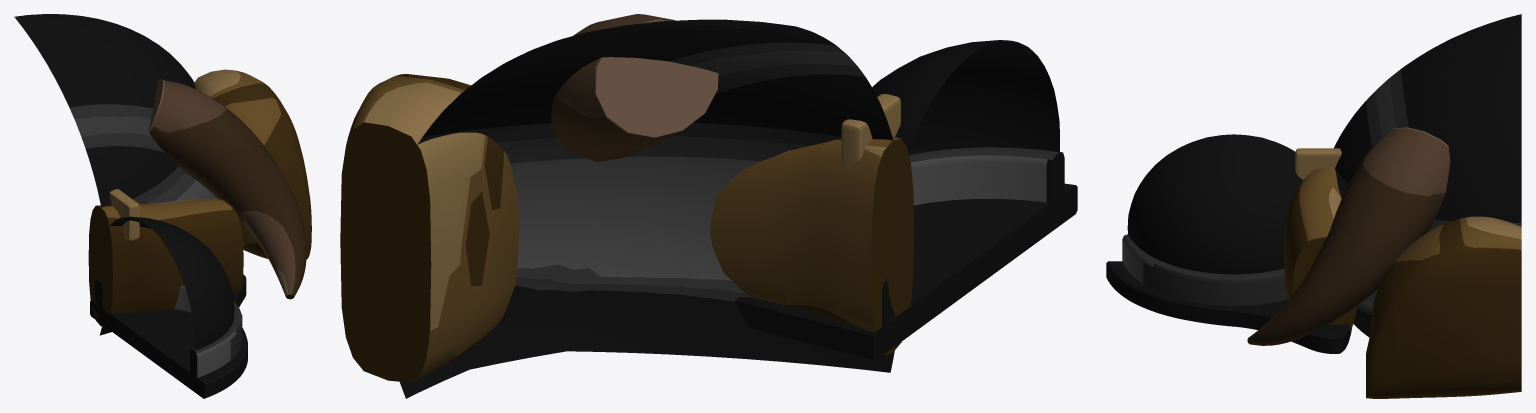
Rendered from claw_orb_br.glb.
The picture shows the model from 3 angles, left to right: view 1: azimuth 30°, elevation 25°; view 2: azimuth 150°, elevation 25°; view 3: azimuth 270°, elevation 25°; orthographic projection. The views are drawn at different scales.
Parts seen in each view (by area): view 1: claw_orb_br; view 2: claw_orb_br; view 3: claw_orb_br.
Part boxes in pixels (bbox=[...]): claw_orb_br: bbox=[14, 14, 311, 398]; claw_orb_br: bbox=[340, 14, 1077, 398]; claw_orb_br: bbox=[1106, 14, 1521, 398].
Size of the model in its own units: 18.16 by 18.69 by 25.09.
